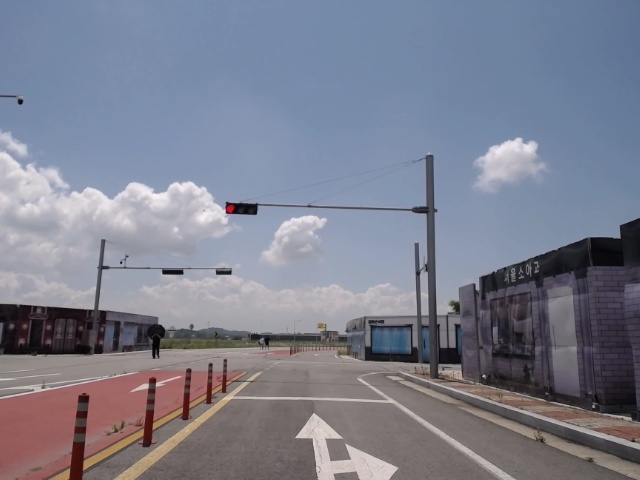red_3: (226, 202, 258, 215)
